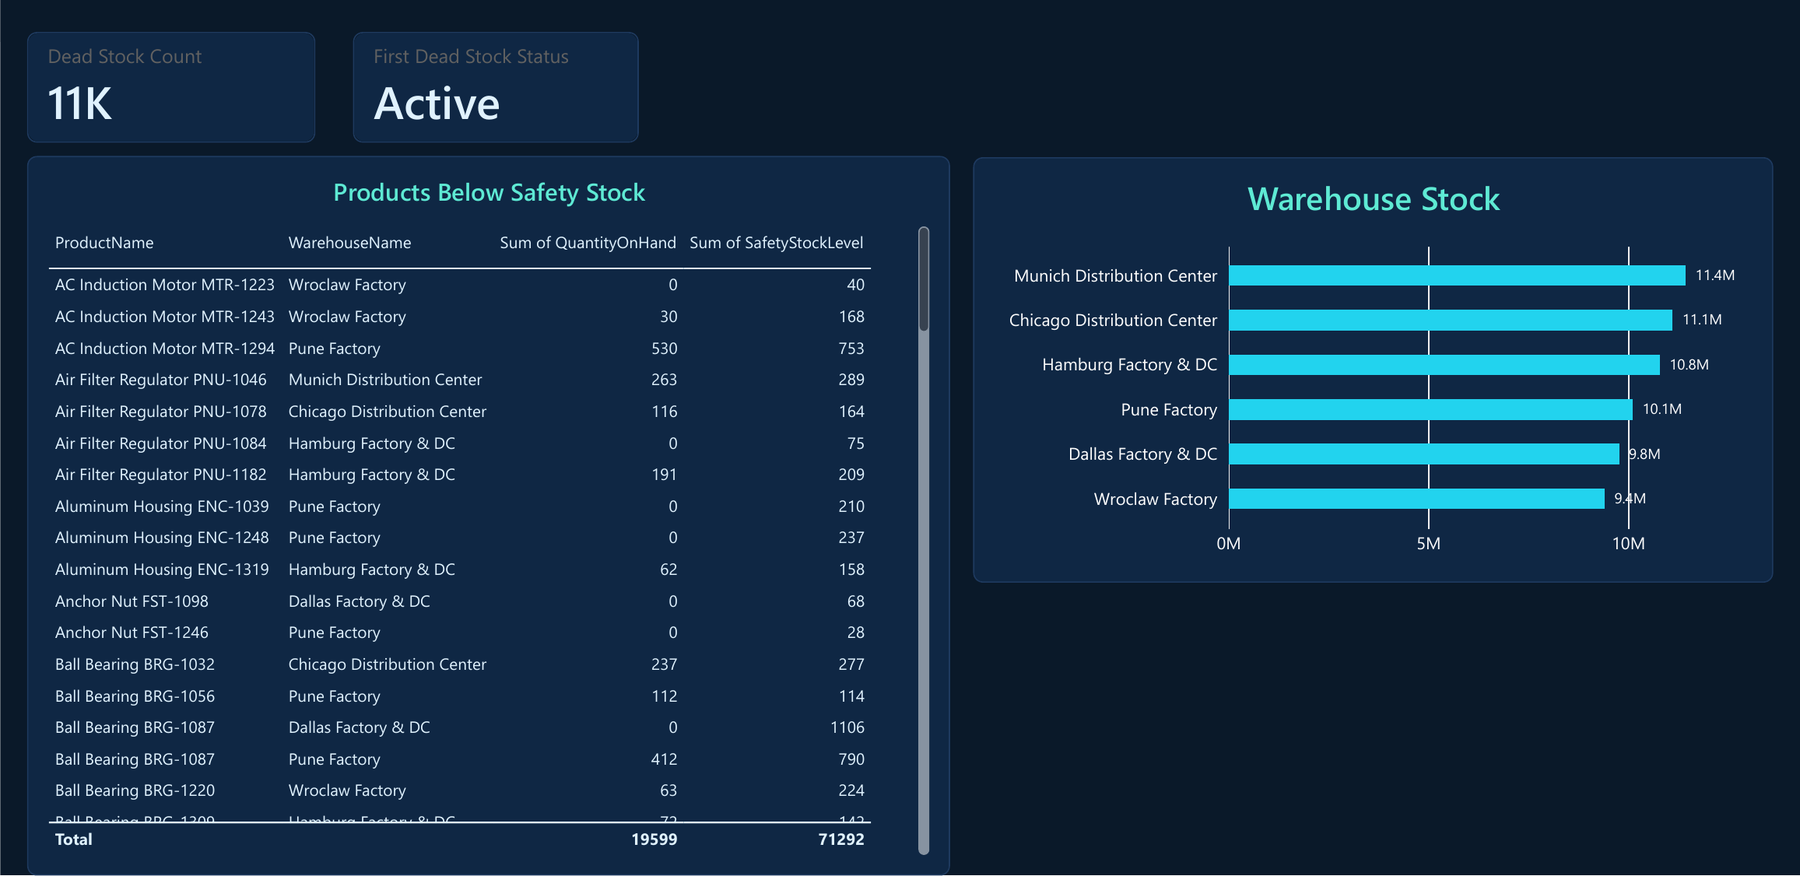

Layout of this report page (visuals, bound fields, positions):
{"tool":"powerbi","page":{"name":"Inventory Intelligence","canvas":[1480,720],"ordinal":2},"visuals":[{"type":"clusteredBarChart","title":"Warehouse Stock","fields":{"Category":["dim_warehouses.WarehouseName"],"Y":["dim_calendar.Total Inventory"]},"box":[799.8,128.7,658.2,350.1],"z":0},{"type":"tableEx","title":"Products Below Safety Stock","fields":{"Values":["dim_products.ProductName","dim_warehouses.WarehouseName","Sum(fact_inventory.QuantityOnHand)","Sum(fact_inventory.SafetyStockLevel)"]},"box":[21.5,128.4,759.5,591.6],"z":1000},{"type":"cardVisual","fields":{"Data":["fact_inventory.Dead Stock Count"]},"box":[21.5,26,237.9,90.7],"z":2000},{"type":"cardVisual","fields":{"Data":["Min(fact_inventory.Dead Stock Status)"]},"box":[290,26,235.2,90.7],"z":3000}]}

Visuals, with their boxes in screenshot pixels (x1, y1, x2, y2), scaled from the page's 1480x720 canvas onto the 1800x876 screenshot:
"Warehouse Stock" clusteredBarChart: (left=973, top=157, right=1773, bottom=583)
"Products Below Safety Stock" tableEx: (left=26, top=156, right=950, bottom=875)
cardVisual - fact_inventory.Dead Stock Count: (left=26, top=32, right=315, bottom=142)
cardVisual - Min(fact_inventory.Dead Stock Status): (left=353, top=32, right=639, bottom=142)
